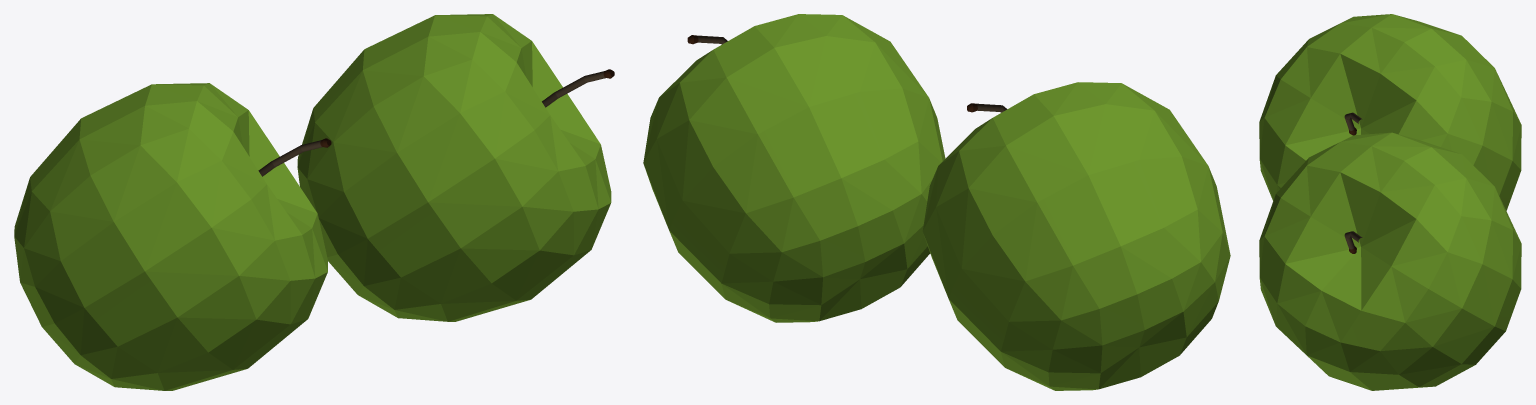
The model's file is doubleApple.glb.
3 renders of one model, left to right at view 1: azimuth 30°, elevation 25°; view 2: azimuth 150°, elevation 25°; view 3: azimuth 270°, elevation 25°, orthographic. The views are drawn at different scales.
Parts seen in each view (by area): view 1: Cube002_3.001, Cube002, Cube002_1.001; view 2: Cube002_3.001, Cube002; view 3: Cube002, Cube002_3.001.
Boxes of the visible parts, x1,y1,x2,y2 form: Cube002_3.001: [14, 83, 327, 390]; Cube002: [297, 14, 614, 321]; Cube002_1.001: [258, 140, 322, 176]; Cube002_3.001: [922, 82, 1230, 390]; Cube002: [643, 14, 945, 322]; Cube002: [1259, 132, 1521, 390]; Cube002_3.001: [1259, 14, 1521, 210].
Size of the model in its own units: 6.81 by 3.28 by 3.22.
